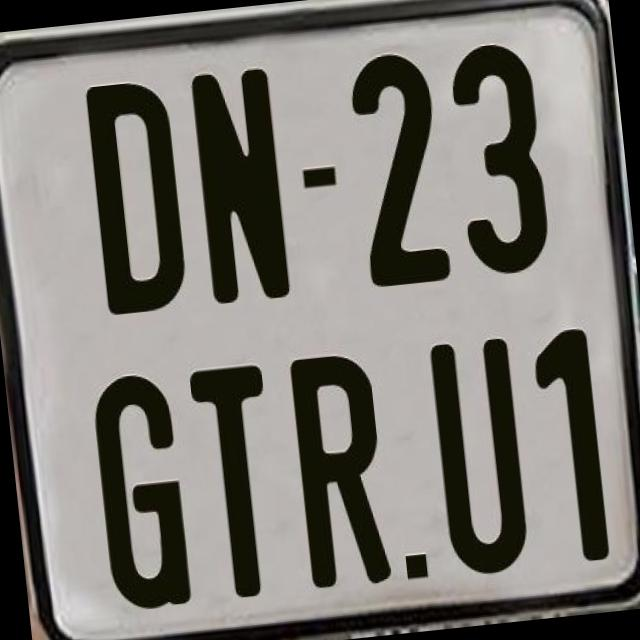1: (529, 322, 612, 566)
2: (346, 50, 451, 292)
3: (447, 41, 553, 285)
D: (84, 76, 192, 322)
G: (86, 370, 193, 612)
N: (188, 64, 292, 306)
R: (289, 346, 397, 586)
T: (186, 363, 287, 603)
U: (425, 333, 530, 582)
